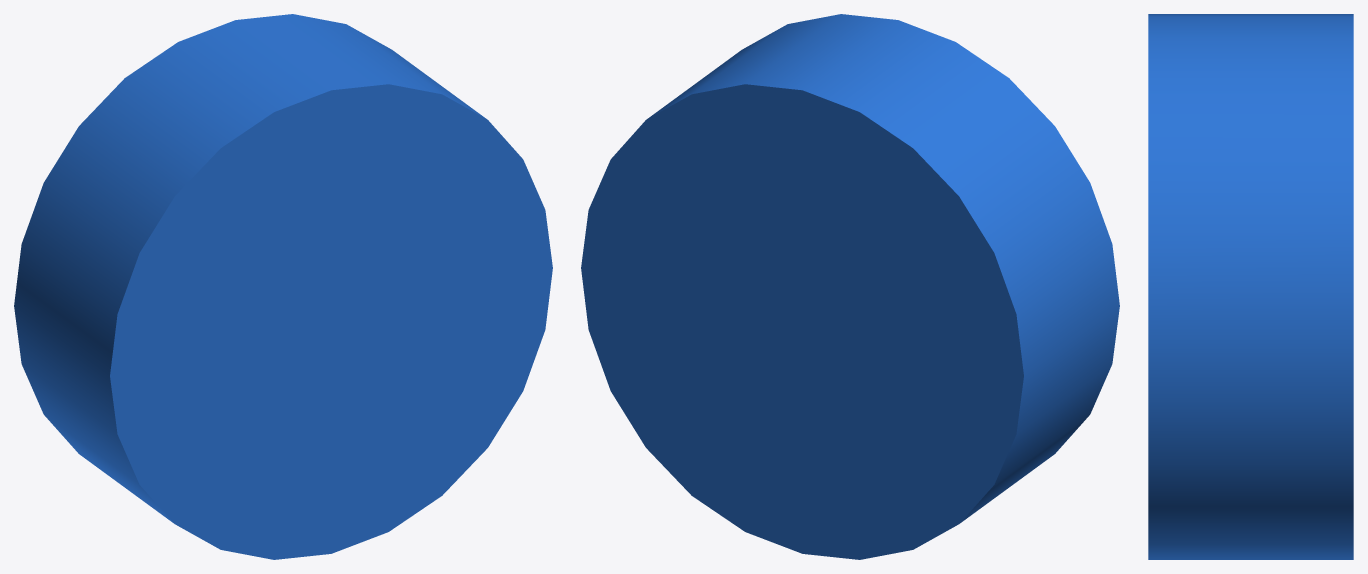
The picture shows the model from 3 angles, left to right: view 1: azimuth 30°, elevation 25°; view 2: azimuth 150°, elevation 25°; view 3: azimuth 270°, elevation 25°; orthographic projection. The views are drawn at different scales.
Visible parts, largest first — view 1: object; view 2: object; view 3: object.
Boxes of the visible parts, x1,y1,x2,y2 form: object: (14,14,552,559); object: (581,14,1119,559); object: (1148,14,1353,559).
Bounding box in the file's own units: 0.04 × 0.04 × 0.015.
